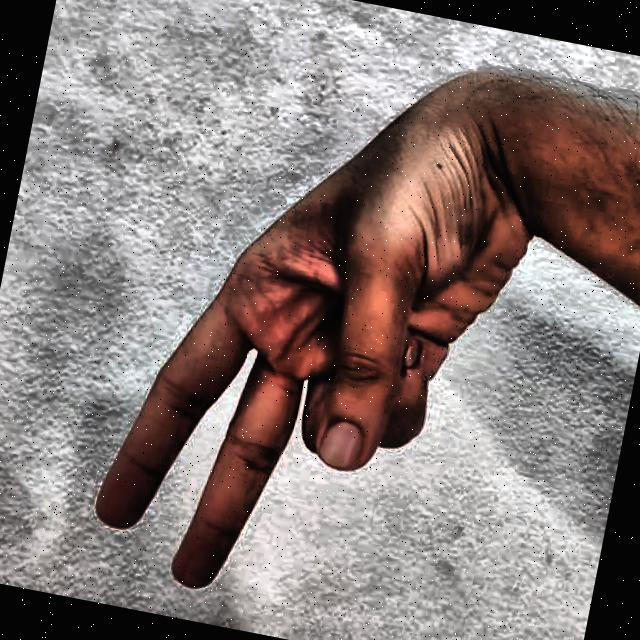Pa: (66, 7, 571, 640)
